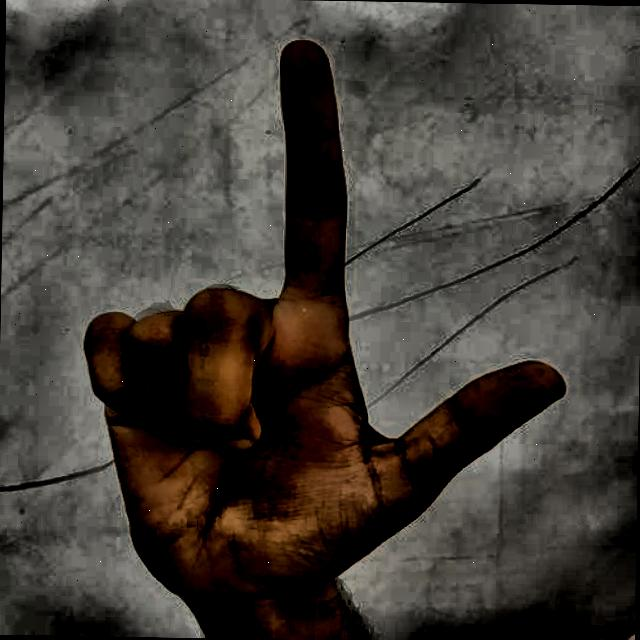La: (30, 13, 578, 640)
